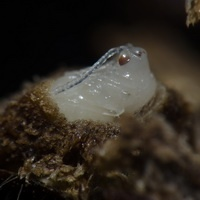insect: (0, 44, 199, 199)
